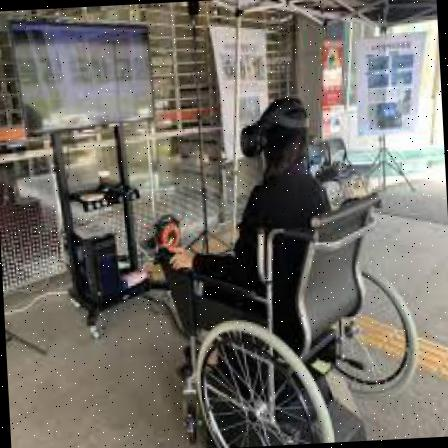wheel: (156, 90, 422, 447)
